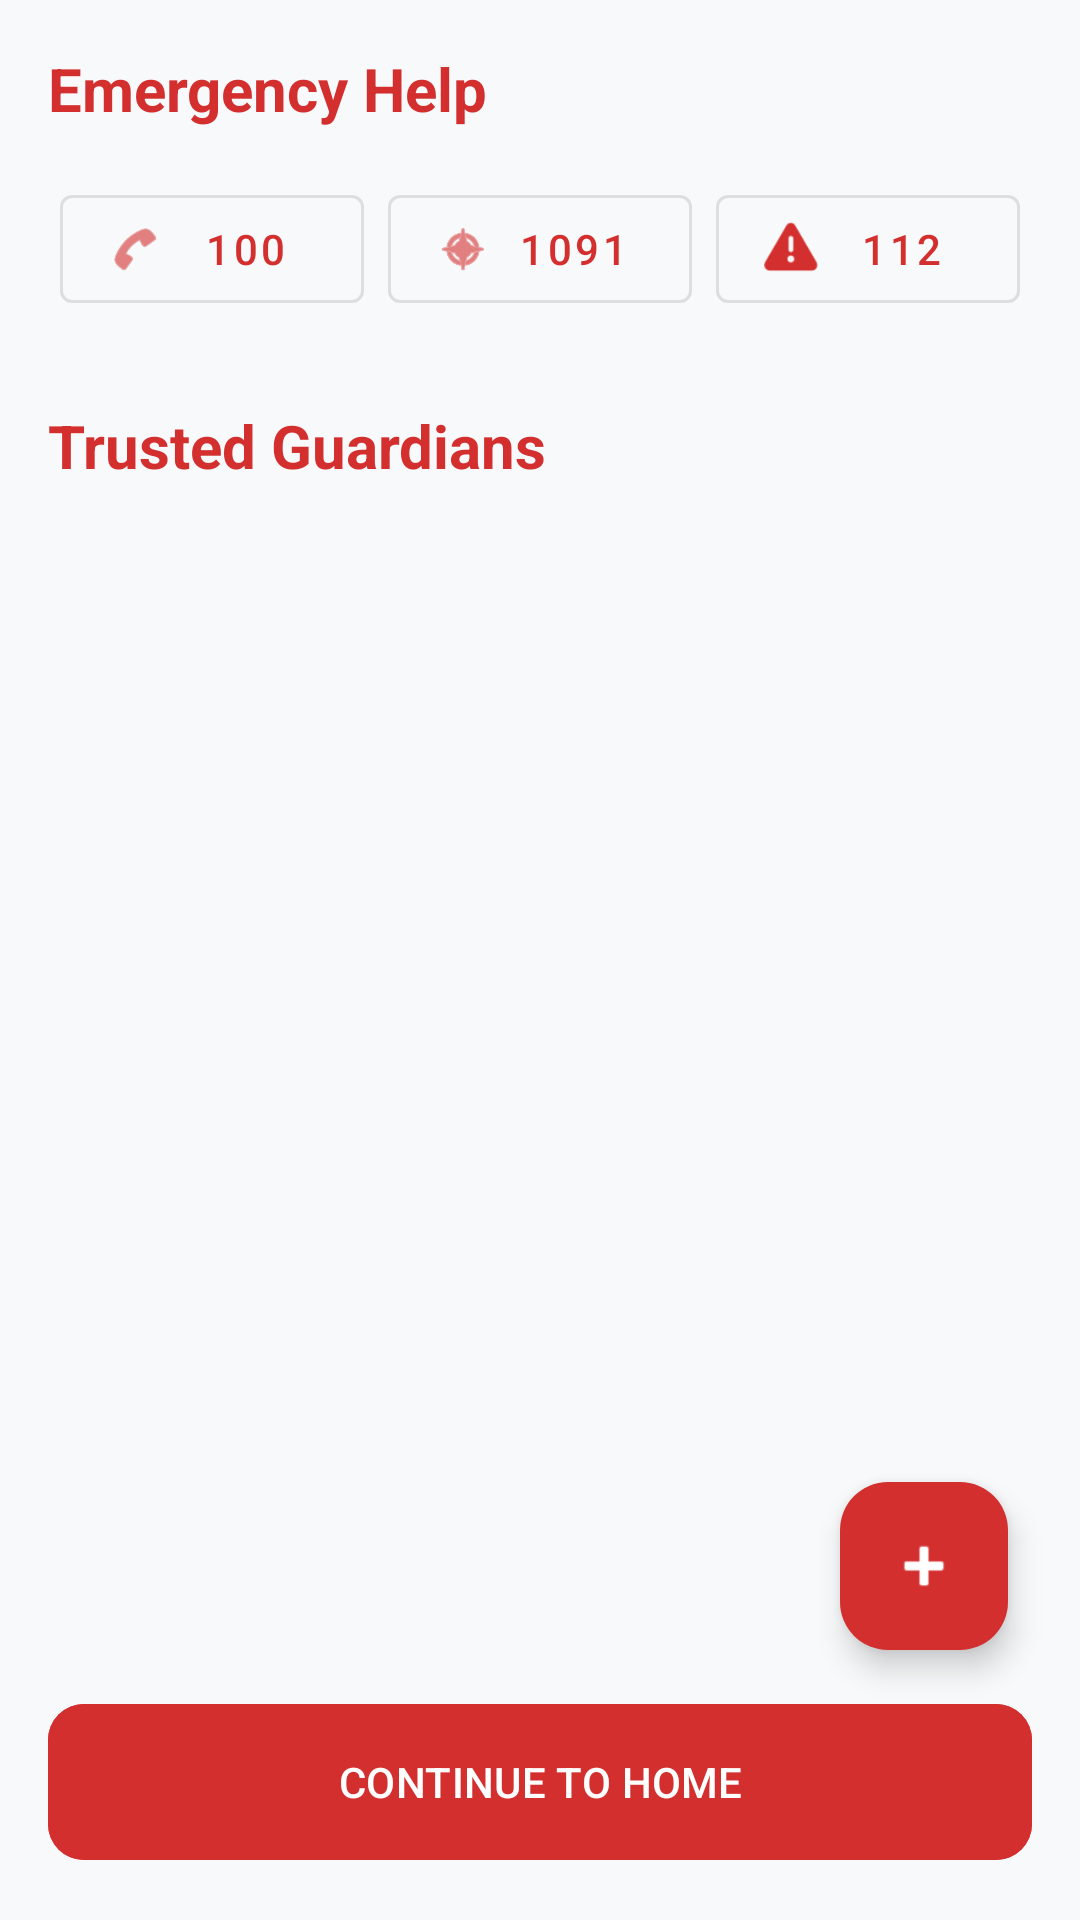

Screen size 1080 × 1920. Icon name, then its box in pixels as (x1, y1, x2, y2):
add: (840, 1482, 1008, 1650)
